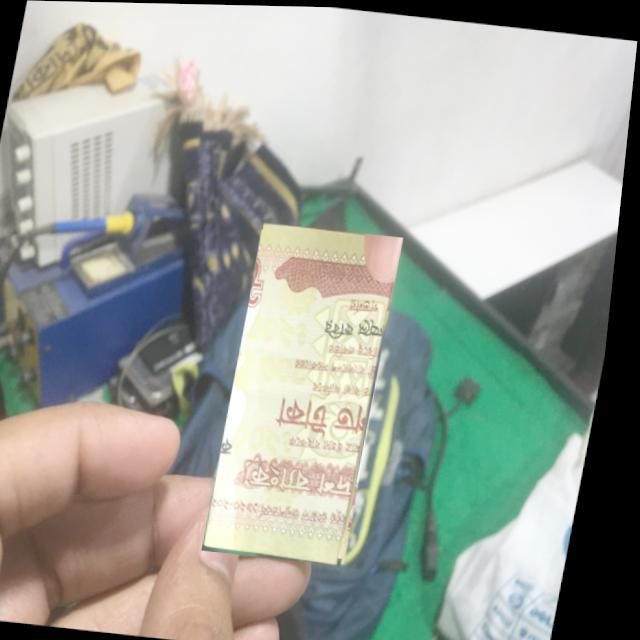Taka: (212, 220, 409, 564)
